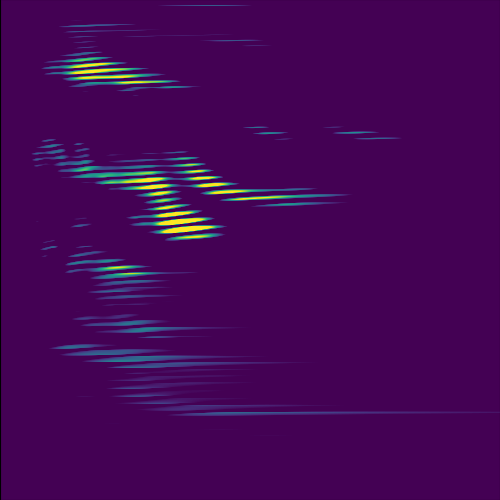semblance: (55, 43, 169, 96), (141, 197, 226, 248), (112, 165, 183, 204)
